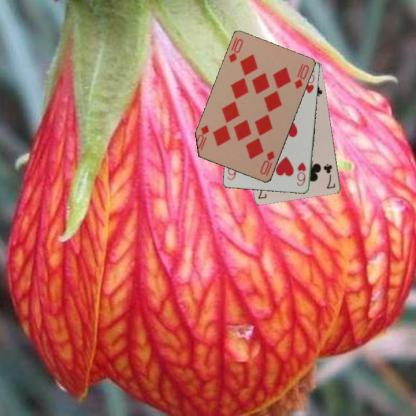10d: (258, 148, 276, 178), (226, 35, 244, 64)
6h: (294, 160, 307, 187)
7c: (321, 161, 337, 190)
